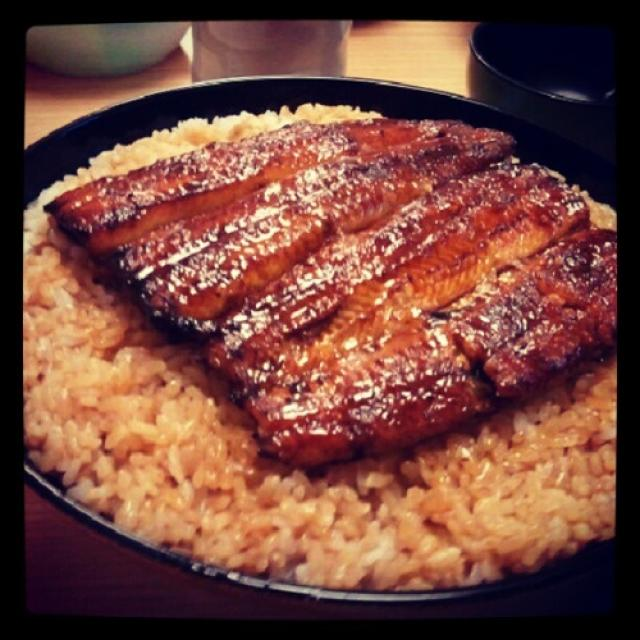熟制海鲜: (29, 69, 621, 602)
